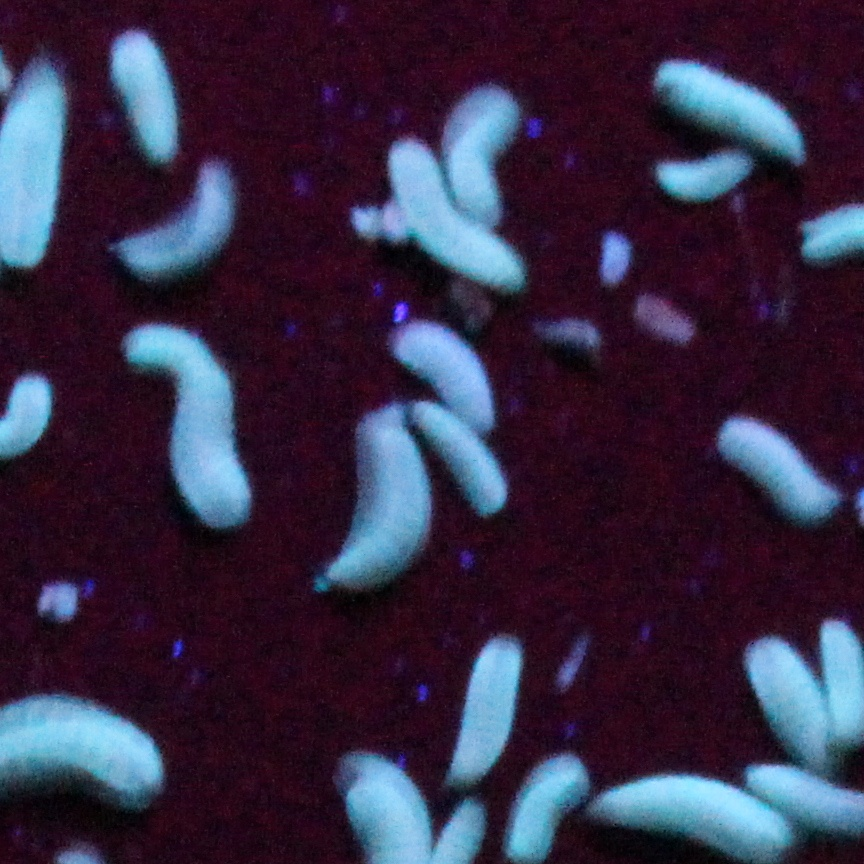larve: (128, 328, 259, 530), (388, 140, 524, 290), (309, 413, 409, 594), (663, 57, 811, 165), (115, 163, 236, 278), (719, 413, 842, 524), (738, 634, 836, 772), (394, 313, 503, 434), (411, 397, 511, 519), (438, 86, 526, 222), (447, 636, 519, 786), (501, 755, 586, 863), (111, 32, 178, 169), (655, 159, 757, 199)
